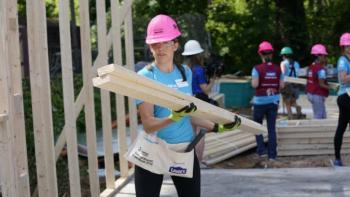helmet: (147, 15, 184, 44), (184, 41, 205, 56), (258, 42, 275, 55), (312, 45, 330, 56), (340, 34, 350, 48), (282, 47, 293, 55)
